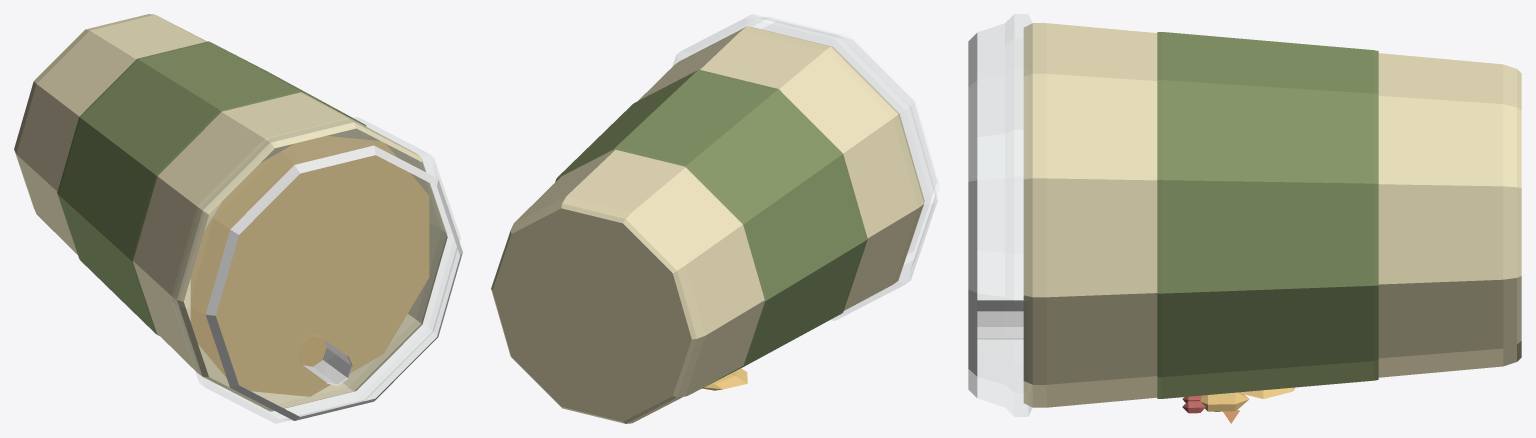
The model's file is chicken_soup.glb.
The picture shows the model from 3 angles, left to right: view 1: azimuth 30°, elevation 25°; view 2: azimuth 150°, elevation 25°; view 3: azimuth 270°, elevation 25°; orthographic projection. The views are drawn at different scales.
Visible parts, largest first — view 1: chicken_soup; view 2: chicken_soup; view 3: chicken_soup.
Boxes of the visible parts, <box> form: chicken_soup: <box>14,14,462,423</box>; chicken_soup: <box>491,14,937,423</box>; chicken_soup: <box>968,14,1521,423</box>.
Bounding box in the file's own units: 0.088 × 0.0837 × 0.12.
